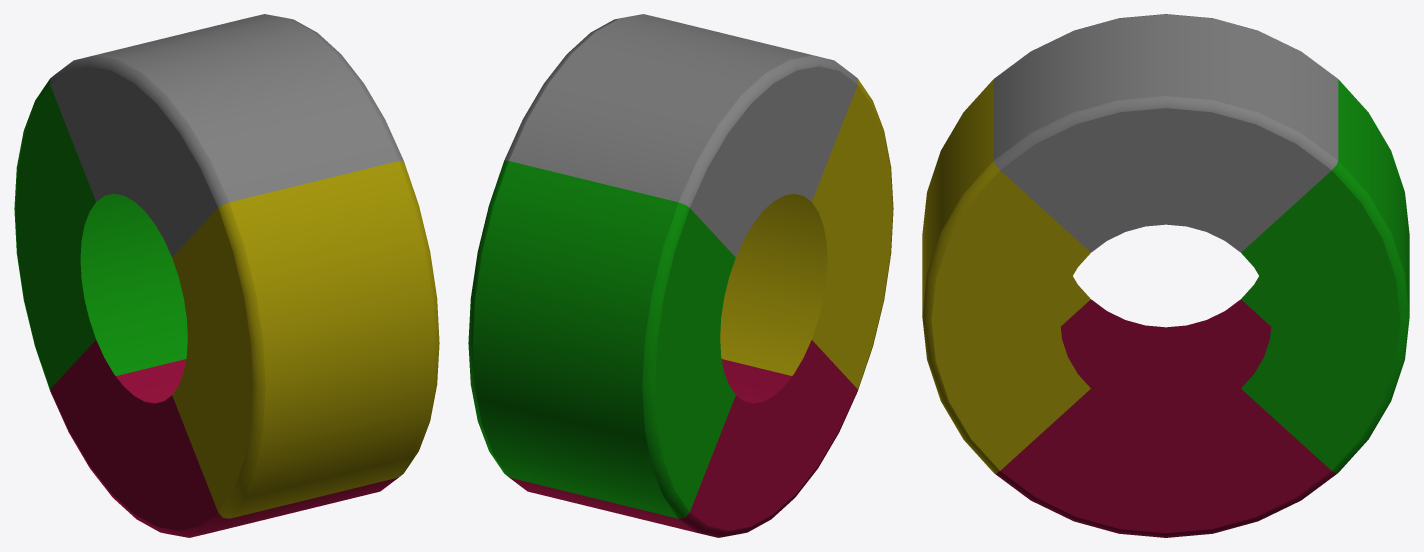
File: door_wheel.fbx
3 renders of one model, left to right at view 1: azimuth 30°, elevation 25°; view 2: azimuth 150°, elevation 25°; view 3: azimuth 270°, elevation 25°, orthographic.
Visible parts, largest first — view 1: door_wheel; view 2: door_wheel; view 3: door_wheel.
Part boxes in pixels (x1=…): door_wheel: x1=14, y1=14, x2=439, y2=537; door_wheel: x1=468, y1=14, x2=893, y2=537; door_wheel: x1=922, y1=14, x2=1409, y2=537.
Bounding box in the file's own units: 20.79 × 47.89 × 47.89.
